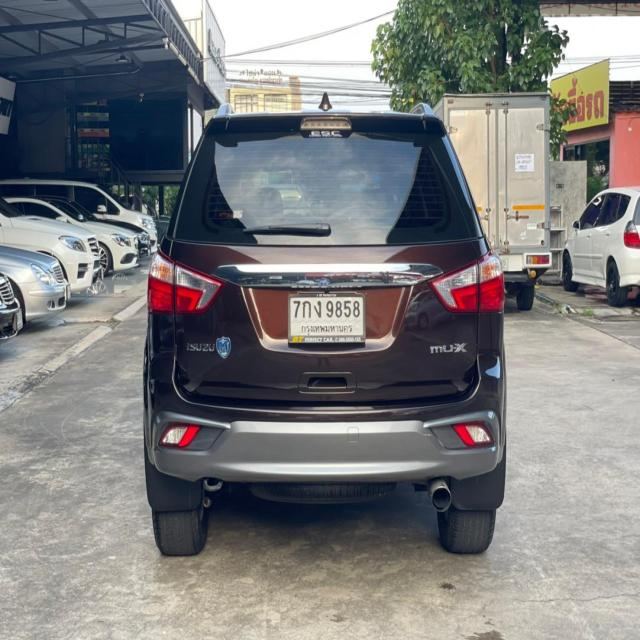license_plate: (286, 293, 368, 351), (15, 309, 25, 331), (65, 281, 70, 303)
